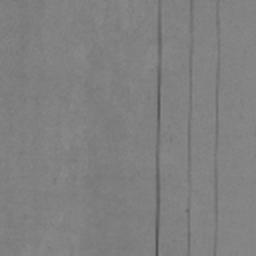Scratches: (155, 0, 163, 256), (187, 0, 194, 186), (214, 57, 221, 157), (213, 160, 219, 256), (185, 196, 191, 256), (215, 0, 221, 54)
